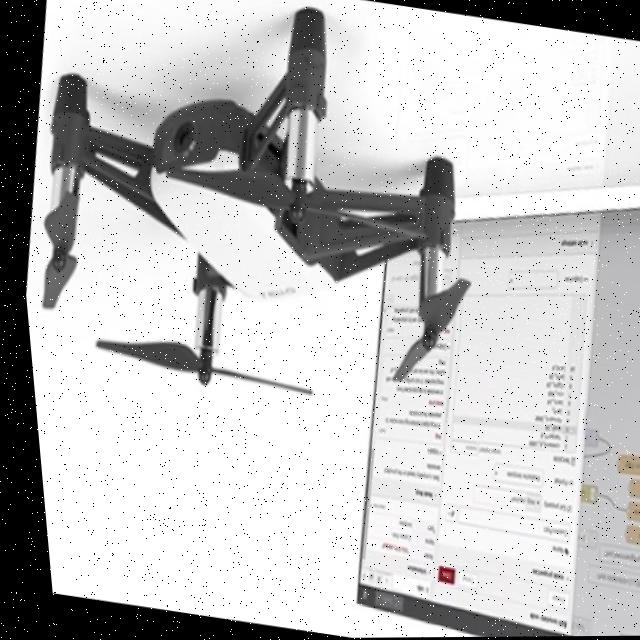drones: (0, 0, 535, 450)
